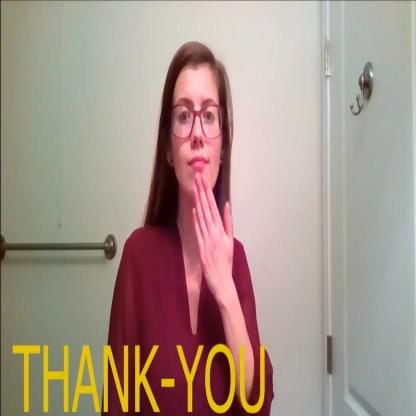ThankYou: (166, 39, 243, 338)
